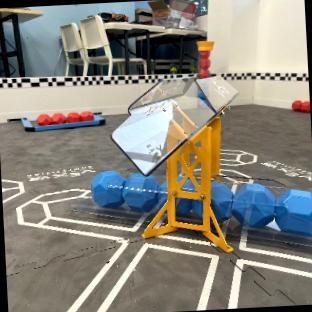Med_goal: (112, 76, 237, 172)
Parking-R: (21, 114, 104, 131)
V5_BLUE: (230, 183, 312, 236), (91, 170, 166, 211), (210, 180, 232, 220)
V5_RED: (37, 111, 93, 126), (197, 40, 212, 75), (292, 99, 309, 111)
